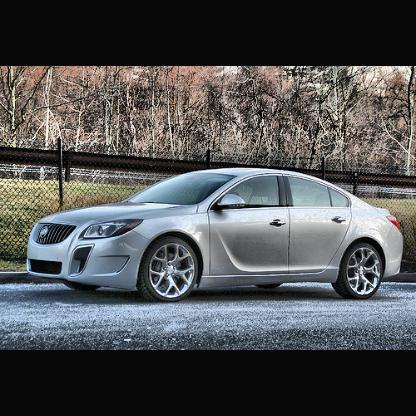Buick Regal GS 2012: (28, 167, 405, 303)
